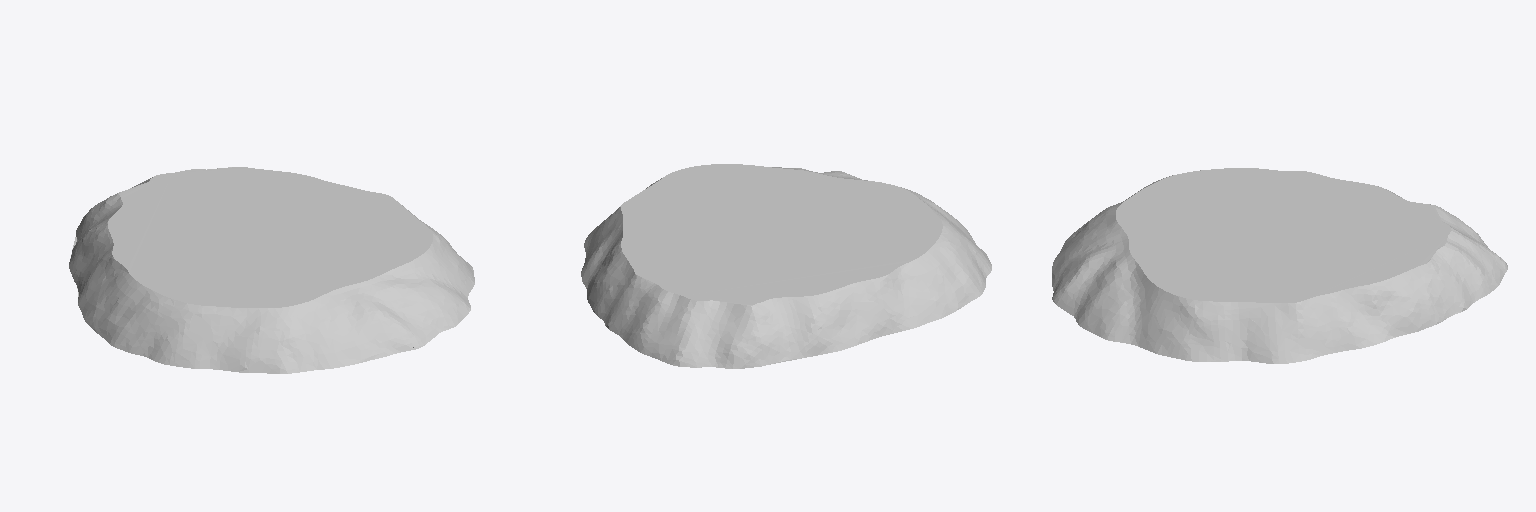
3 renders of one model, left to right at view 1: azimuth 30°, elevation 25°; view 2: azimuth 150°, elevation 25°; view 3: azimuth 270°, elevation 25°, orthographic.
Visible parts, largest first — view 1: low.011_Fotogrametria_MarioGomes_V01_Model_2.012; view 2: low.011_Fotogrametria_MarioGomes_V01_Model_2.012; view 3: low.011_Fotogrametria_MarioGomes_V01_Model_2.012.
Boxes of the visible parts, <box> form: low.011_Fotogrametria_MarioGomes_V01_Model_2.012: <box>69,167,474,373</box>; low.011_Fotogrametria_MarioGomes_V01_Model_2.012: <box>581,164,991,368</box>; low.011_Fotogrametria_MarioGomes_V01_Model_2.012: <box>1052,168,1507,363</box>.
Size of the model in its own units: 1.73 by 0.1973 by 1.91.